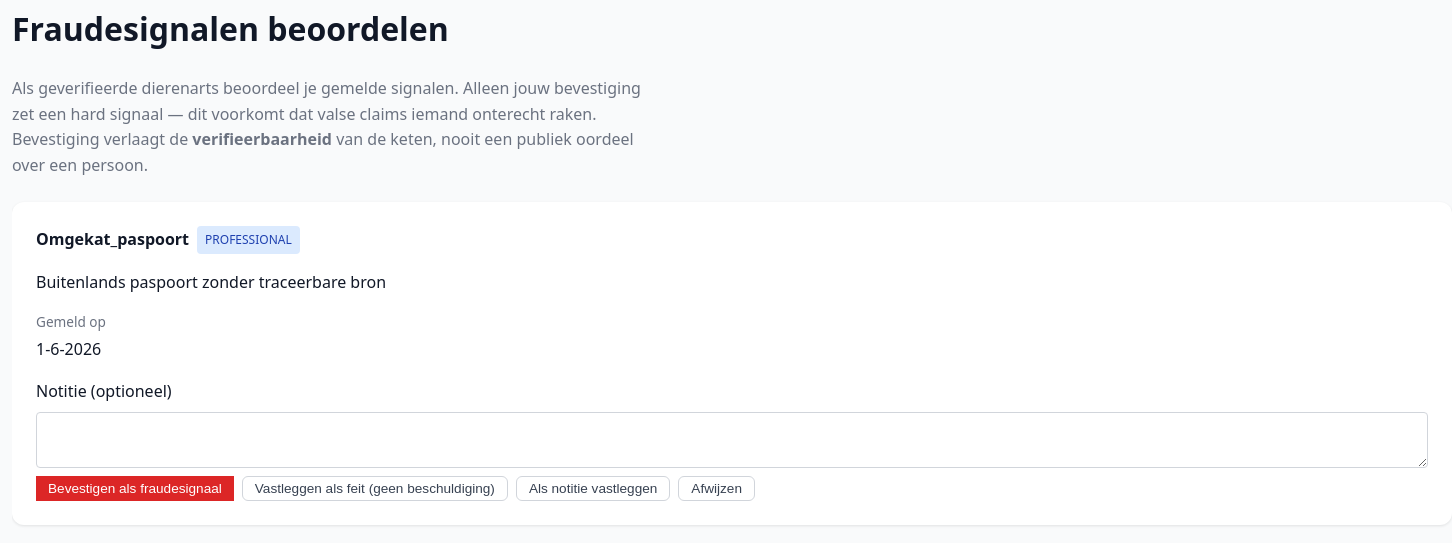
Test: FraudReview › records a report as a neutral FEIT without escalating (§9)
This screenshot has width=1452, height=543.
Expected: the text "omgekat_paspoort" is shown, 36,227 -> 189,253
What coordinates should you click on to do the following:
click the button "Vastleggen als feit (geen beschuldiging)"
I would click on:
 (375, 489)
Its box is 242,476 -> 508,501.
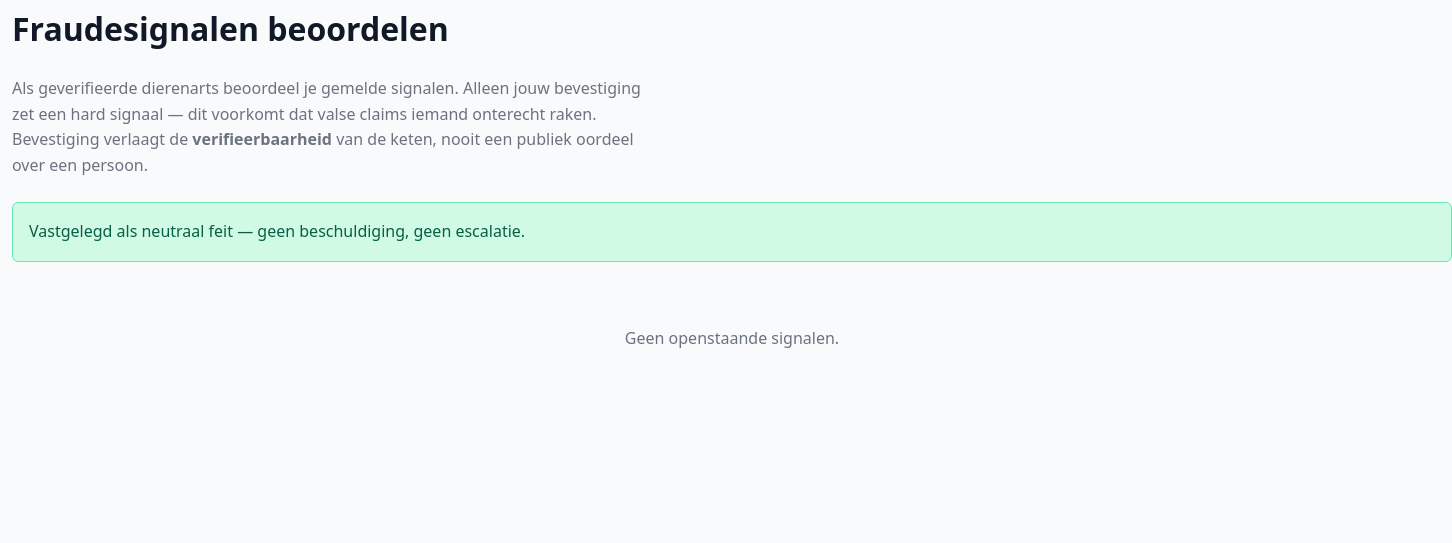
Now the text "geen beschuldiging" is shown, box 29,220 -> 525,242
